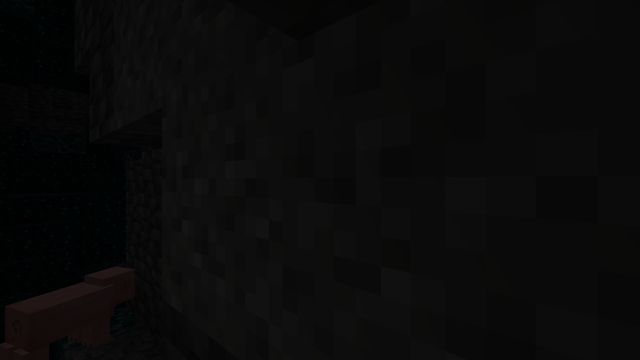cochons: (18, 277, 108, 359)
